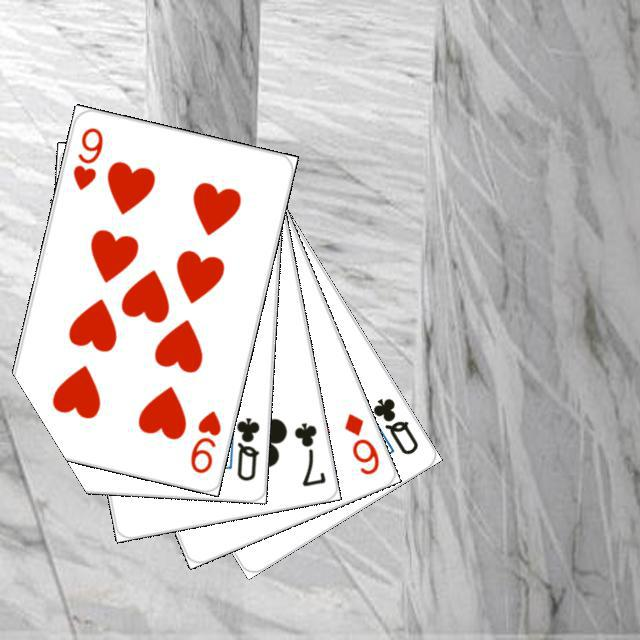6d: (339, 408, 381, 477)
7c: (289, 417, 328, 488)
9h: (185, 405, 223, 475), (68, 122, 105, 192)
Qc: (357, 392, 420, 457), (221, 405, 261, 483)
